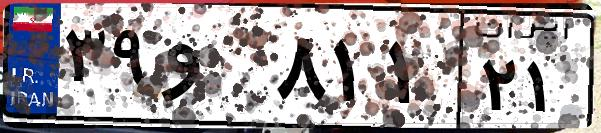1: (385, 28, 445, 110), (330, 28, 385, 110), (525, 38, 570, 115)
2: (475, 38, 525, 113)
3: (57, 26, 110, 100)
8: (270, 28, 330, 110)
9: (110, 28, 158, 98)
و: (158, 20, 270, 120)
